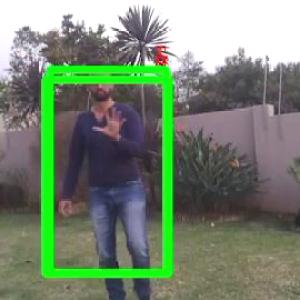follow_hand: (92, 102, 129, 140)
